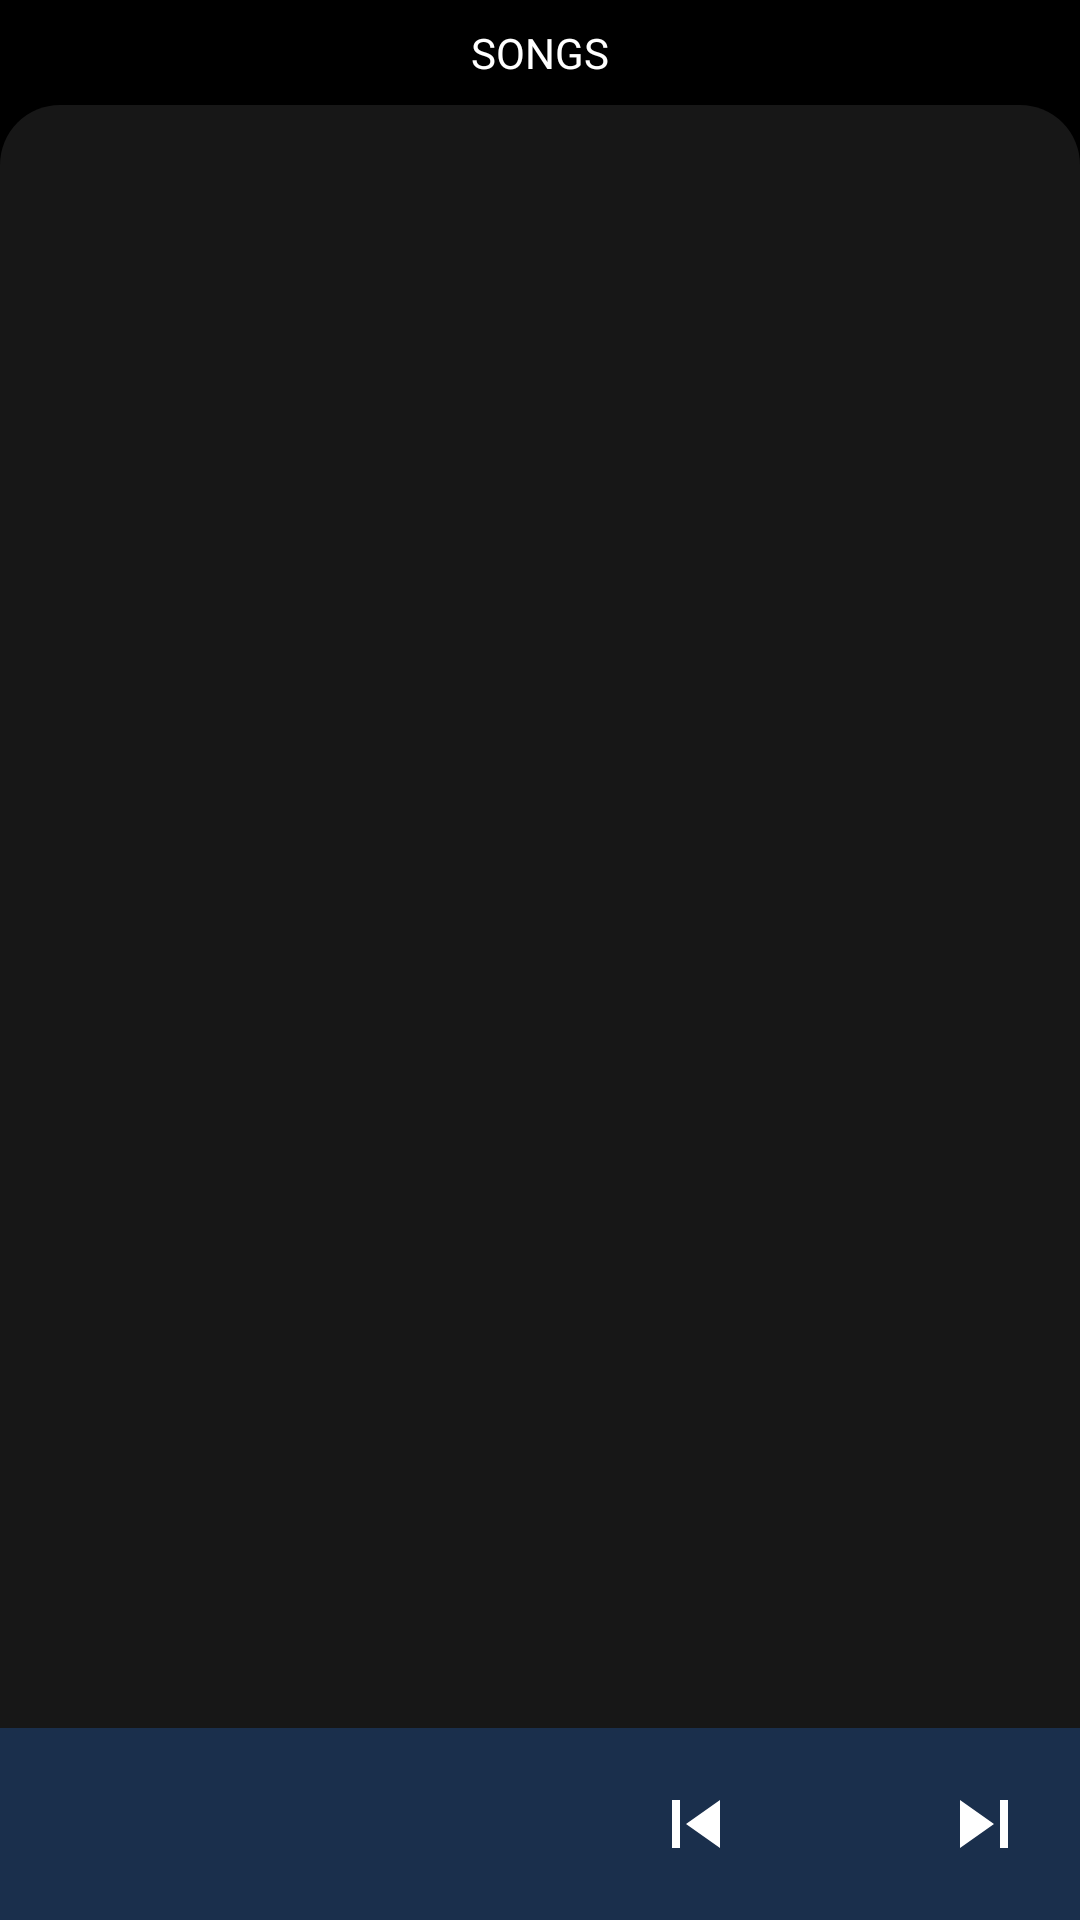

Screen size 1080*1920. Icon name, then its center in pixels as [x,y]:
next: [984,1824]
prev: [696,1824]
